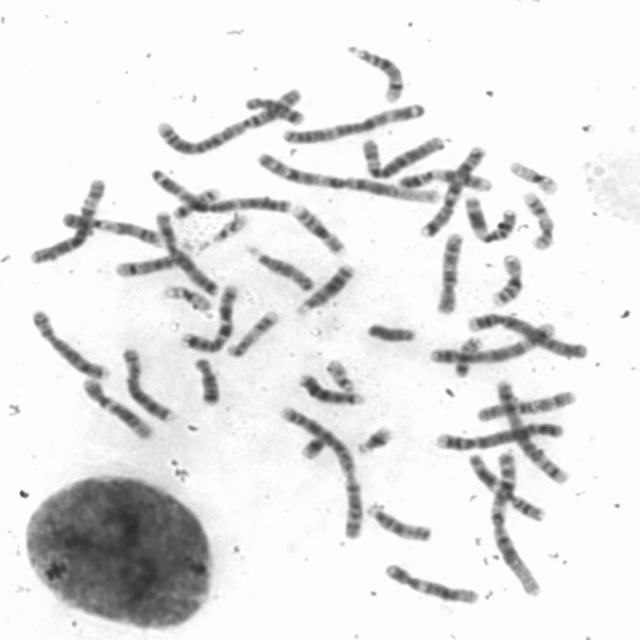A1: (252, 150, 444, 207), (487, 447, 545, 604)
A2: (274, 404, 368, 543), (153, 84, 307, 158)
A3: (274, 97, 433, 147), (147, 167, 293, 215)
B4: (460, 312, 593, 362), (433, 420, 567, 452)
B5: (493, 378, 572, 486), (426, 320, 558, 368)
C10: (474, 388, 578, 423), (434, 229, 466, 316)
C11: (466, 453, 548, 523), (463, 193, 518, 246)
C12: (79, 377, 157, 443), (381, 560, 483, 606)
C6: (24, 173, 110, 267), (360, 131, 448, 182)
C7: (416, 143, 490, 239), (177, 283, 242, 354)
C8: (28, 304, 112, 380), (119, 345, 178, 424)
C9: (59, 210, 164, 250), (394, 167, 497, 194)
D13: (292, 262, 358, 318), (294, 372, 369, 408)
D14: (341, 43, 406, 106), (114, 238, 198, 280)
D15: (365, 496, 436, 544), (246, 246, 316, 294)
E16: (289, 204, 347, 256), (490, 254, 526, 307)
E17: (223, 307, 281, 360), (520, 189, 558, 252)
E18: (242, 95, 307, 127), (190, 355, 222, 407)
F19: (508, 159, 562, 197), (160, 283, 214, 315)
F20: (170, 184, 223, 220), (453, 335, 486, 380)
G21: (355, 425, 397, 455), (298, 434, 330, 462)
G22: (322, 357, 358, 393), (211, 214, 251, 244)
X: (154, 207, 221, 299)
Y: (364, 321, 418, 346)
